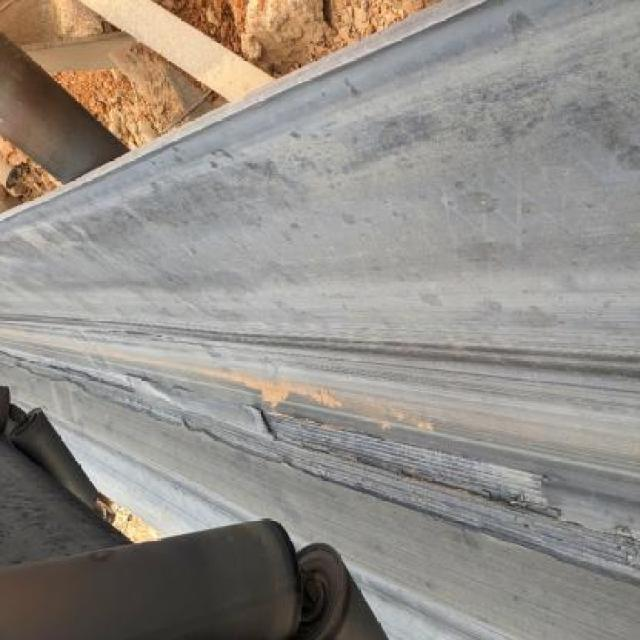Tear: (0, 348, 640, 577)
